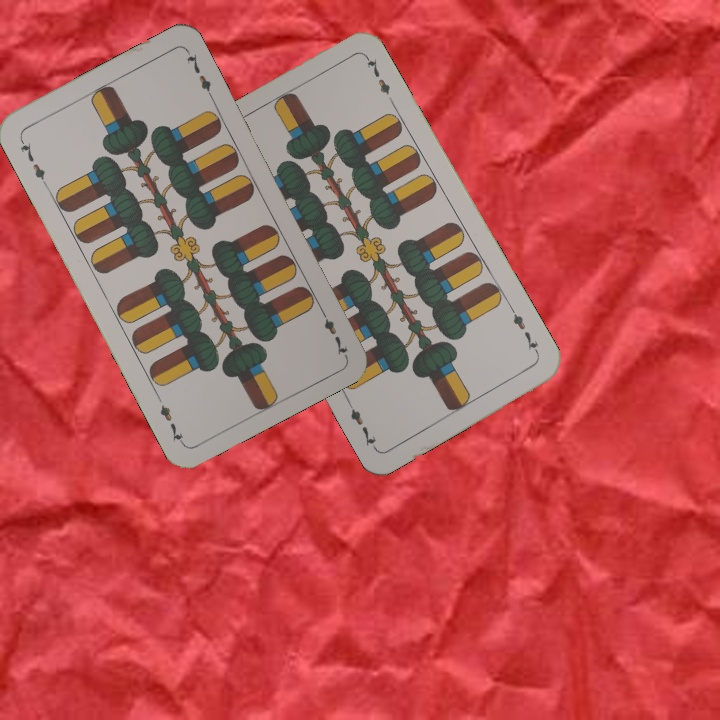E7: (506, 304, 542, 358), (315, 304, 350, 358), (15, 134, 49, 189)
